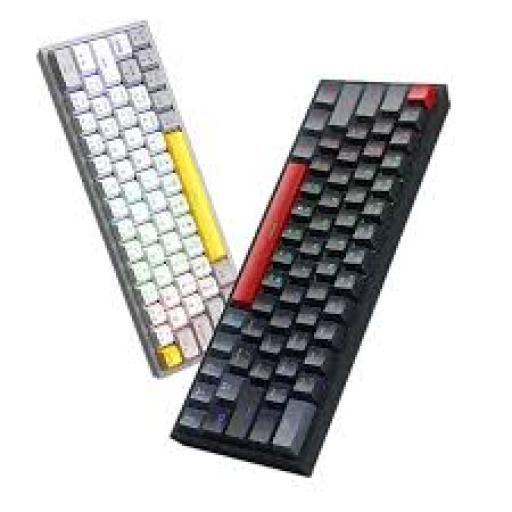KEYBOARD-2: (171, 82, 446, 473), (41, 25, 234, 373)
